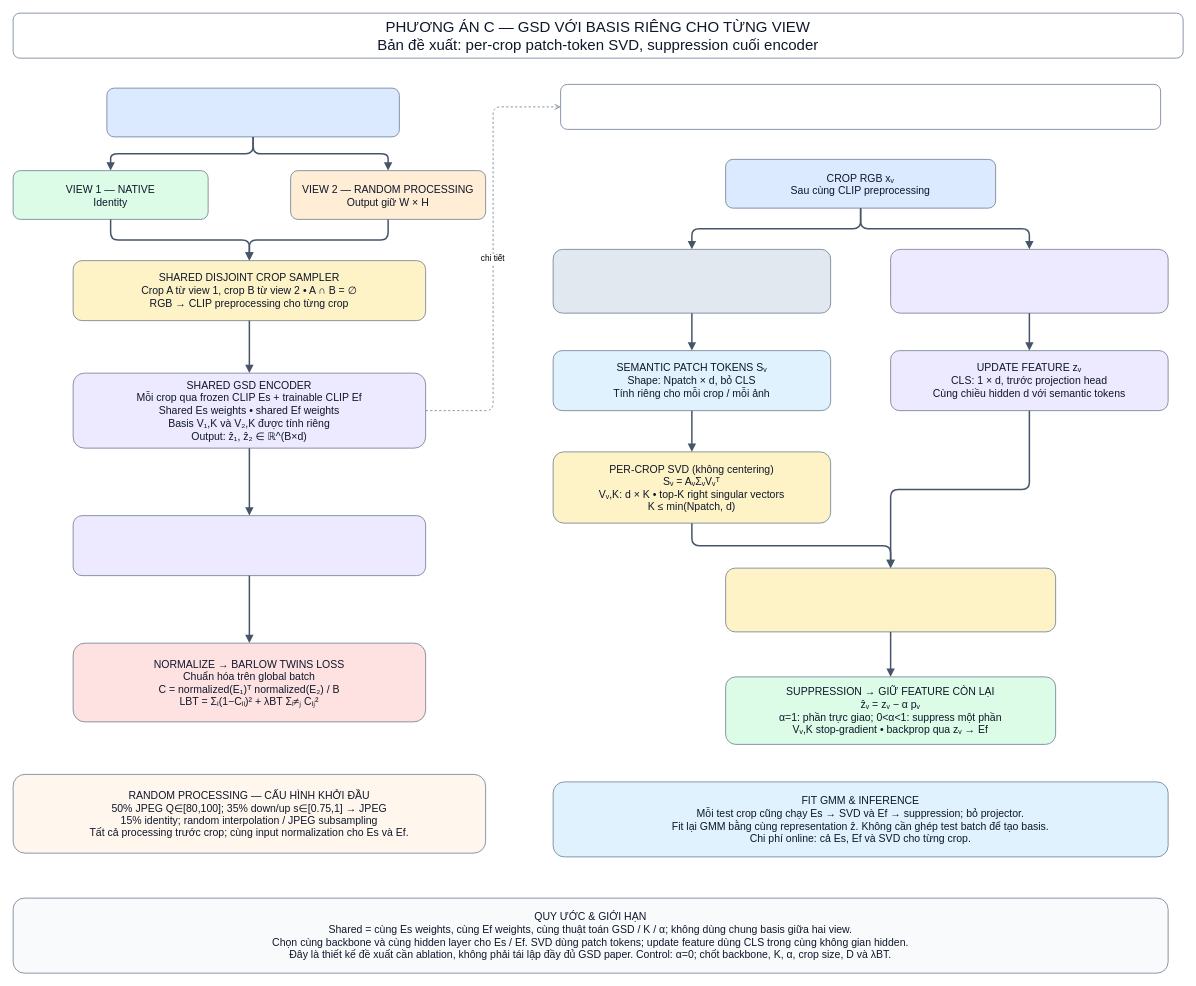
This 1196x986 diagram has some shape labels left out. Each missing label, with the centre of its shape:
"CHI TIẾT SHARED GSD ENCODER Lặp riêng cho v=1 và v=2, từng ảnh trong batch" goes at point 860,106.
"FROZEN CLIP Es Cùng initialization pretrained với Ef Frozen / eval / no_grad" goes at point 691,281.
"Real RGB → shared rotation / flip SSL pretraining chỉ dùng real" goes at point 252,112.
"SEMANTIC PROJECTION pᵥ = (zᵥ Vᵥ,K) Vᵥ,Kᵀ z₁ chỉ dùng V₁,K; z₂ chỉ dùng V₂,K" goes at point 890,599.
"SHARED TRAINABLE PROJECTOR d → hidden → D Output: e₁, e₂ ∈ ℝ^(B×D)" goes at point 249,545.
"TRAINABLE CLIP Ef Gradient cập nhật weights Hai view dùng cùng Ef" goes at point 1029,281.
